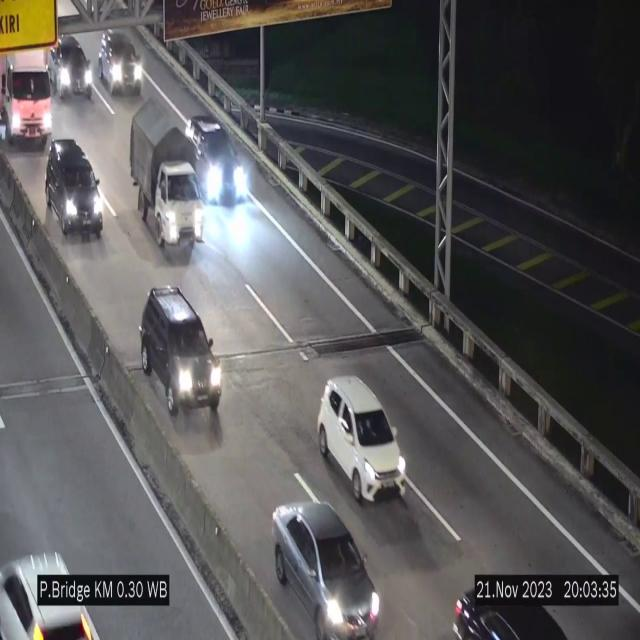Car: (270, 496, 382, 640), (0, 518, 104, 640), (135, 284, 223, 420), (318, 376, 406, 501), (449, 552, 567, 640), (42, 134, 106, 243), (186, 111, 244, 205), (50, 34, 96, 101), (100, 31, 144, 101)
Truck: (128, 95, 206, 252), (0, 32, 53, 153)
